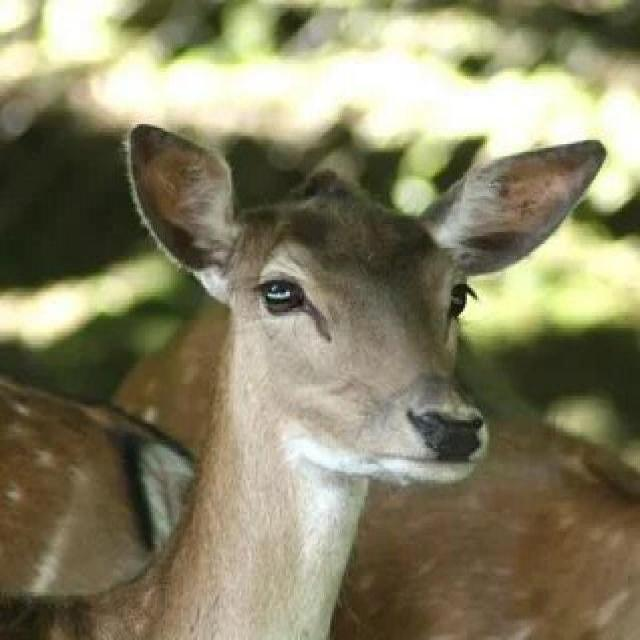deer: (29, 133, 623, 640)
